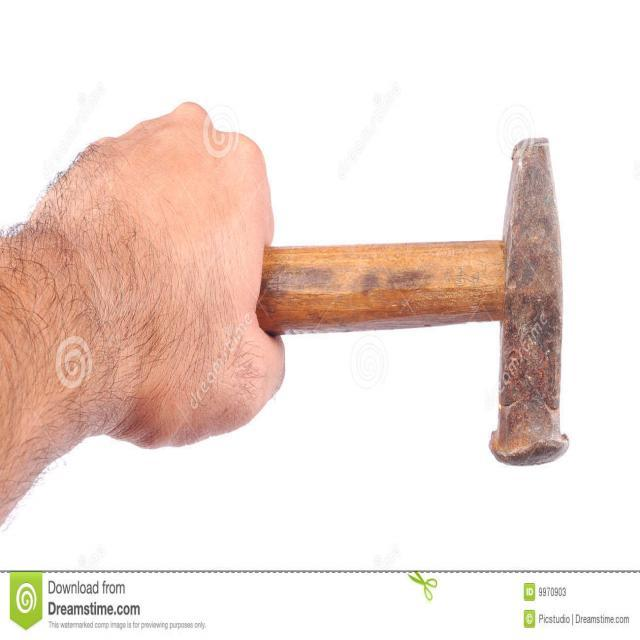hammer: (254, 121, 576, 479)
